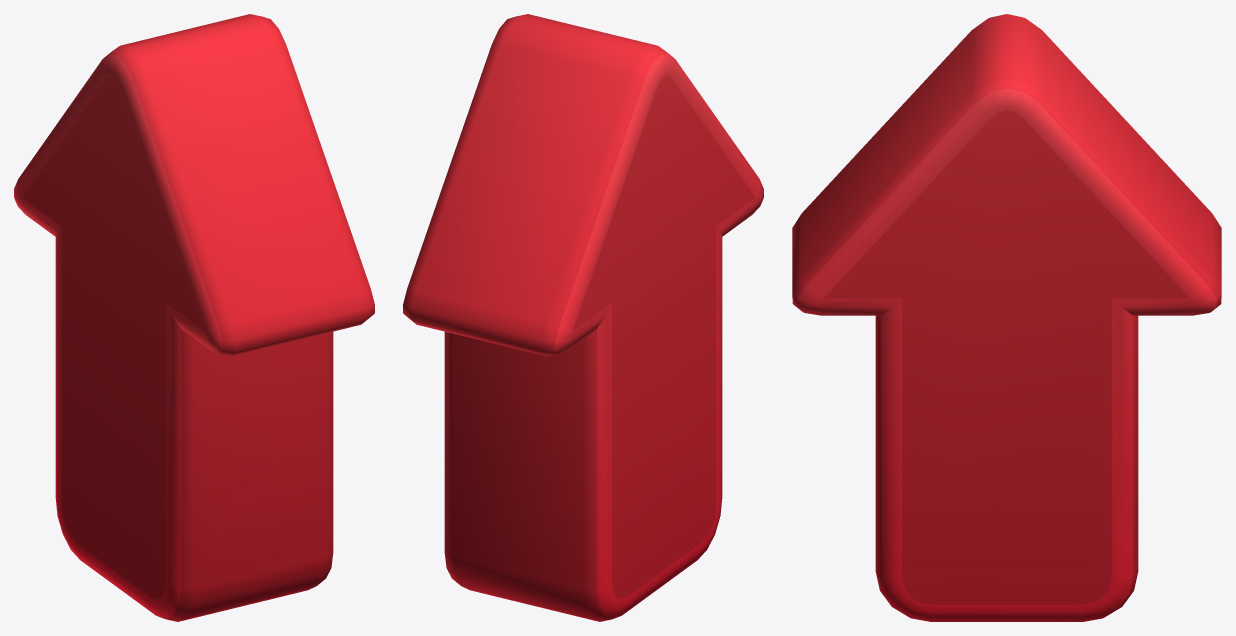
The model's file is Arrow_V2_00.fbx.
3 renders of one model, left to right at view 1: azimuth 30°, elevation 25°; view 2: azimuth 150°, elevation 25°; view 3: azimuth 270°, elevation 25°, orthographic.
Visible parts, largest first — view 1: Arrow_V2_00; view 2: Arrow_V2_00; view 3: Arrow_V2_00.
Part boxes in pixels (x1,y1,x2,y2): Arrow_V2_00: [14, 14, 374, 621]; Arrow_V2_00: [403, 14, 763, 621]; Arrow_V2_00: [792, 14, 1221, 621].
Size of the model in its own units: 12.47 by 39.95 by 28.62.
